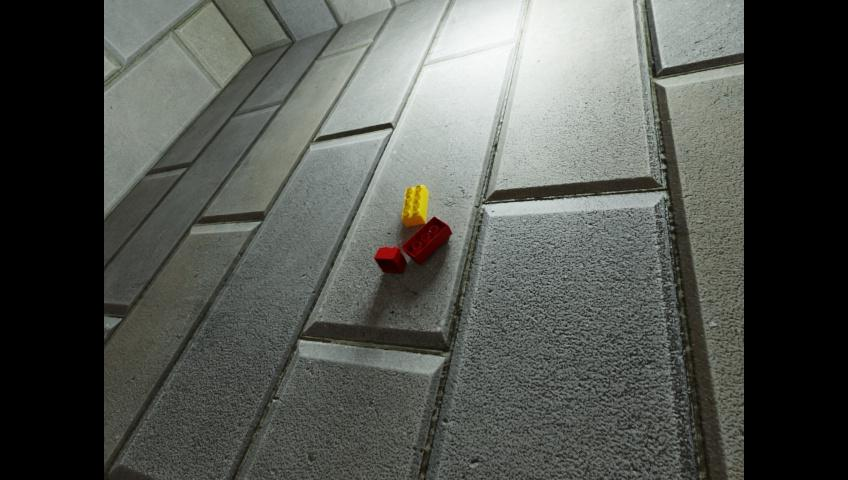2x2_red: (373, 246, 406, 273)
4x2_red: (401, 215, 451, 264)
4x2_yellow: (401, 184, 427, 227)
